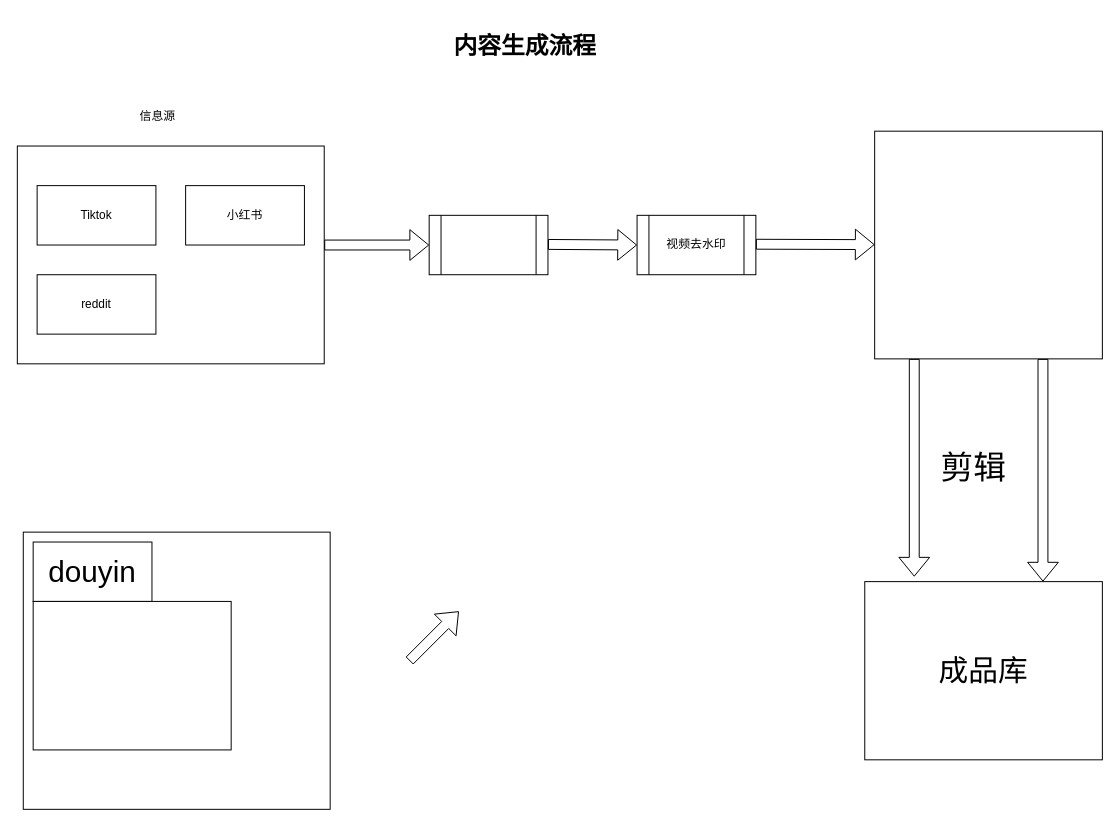
This 1120x827 diagram has some shape labels left out. The shapes that lost their labels are listed below. From the top down, each one's box as (x1, y1, x2, y2) in pixels, then its label:
(428, 214, 548, 275): 视频地址拾取
(874, 130, 1102, 359): 素材库
(32, 600, 231, 750): xiaohongshu
